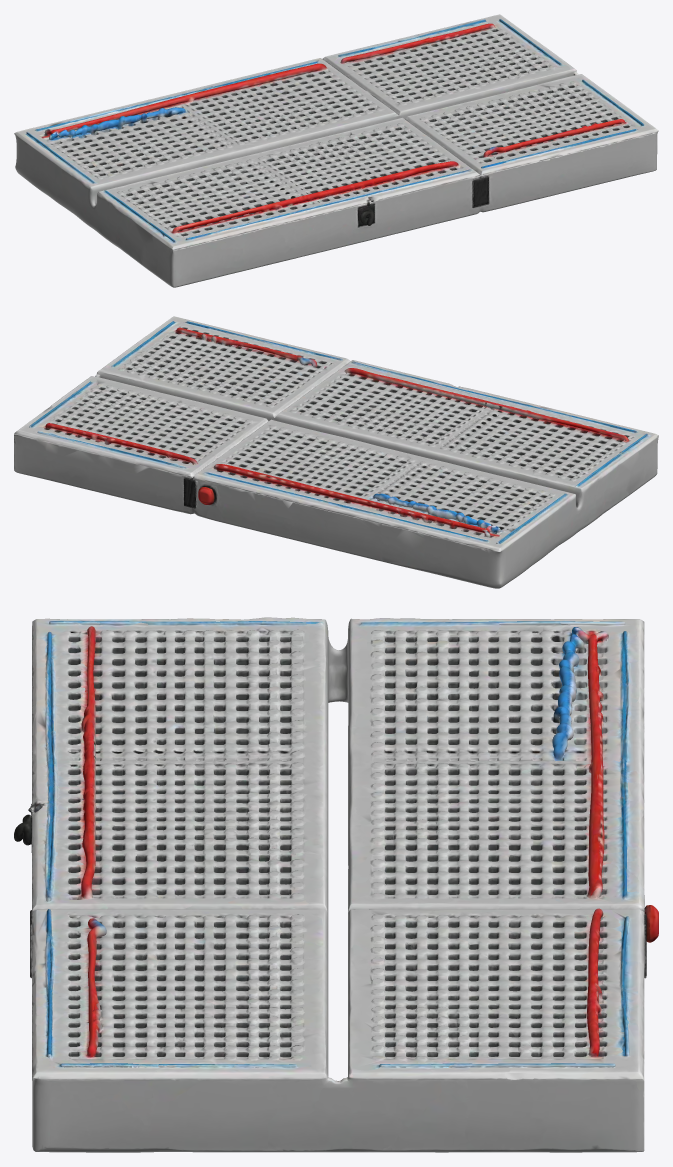
Rendered from breadboard.glb.
3 views of the same model, one above another, from view 1: azimuth 30°, elevation 25°; view 2: azimuth 150°, elevation 25°; view 3: azimuth 270°, elevation 25° (orthographic). The views are drawn at different scales.
Parts seen in each view (by area): view 1: tripo_node_2fb6c4b6-b6d1-4a87-8530-99641e08b917; view 2: tripo_node_2fb6c4b6-b6d1-4a87-8530-99641e08b917; view 3: tripo_node_2fb6c4b6-b6d1-4a87-8530-99641e08b917.
Boxes of the visible parts, x1,y1,x2,y2 form: tripo_node_2fb6c4b6-b6d1-4a87-8530-99641e08b917: [14, 14, 658, 287]; tripo_node_2fb6c4b6-b6d1-4a87-8530-99641e08b917: [14, 316, 658, 588]; tripo_node_2fb6c4b6-b6d1-4a87-8530-99641e08b917: [14, 617, 658, 1152].
Bounding box in the file's own units: 0.9802 × 0.0954 × 0.5837.
1 material, 1 textured.
